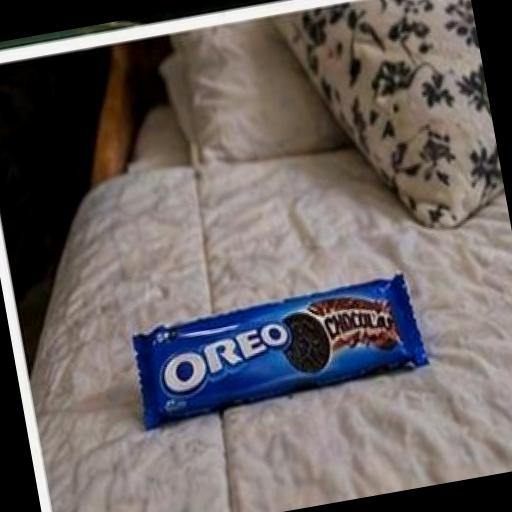oreo: (90, 220, 480, 470)
